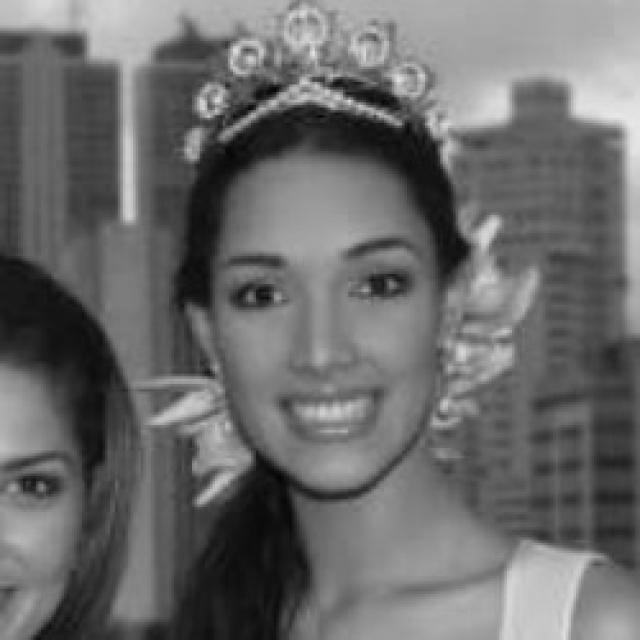real: (202, 152, 441, 492), (234, 256, 415, 321), (3, 451, 71, 515)
